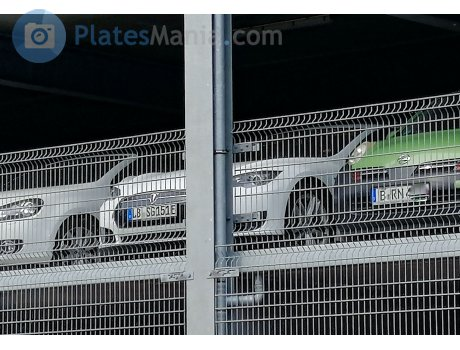License Plates: (131, 207, 171, 215)
